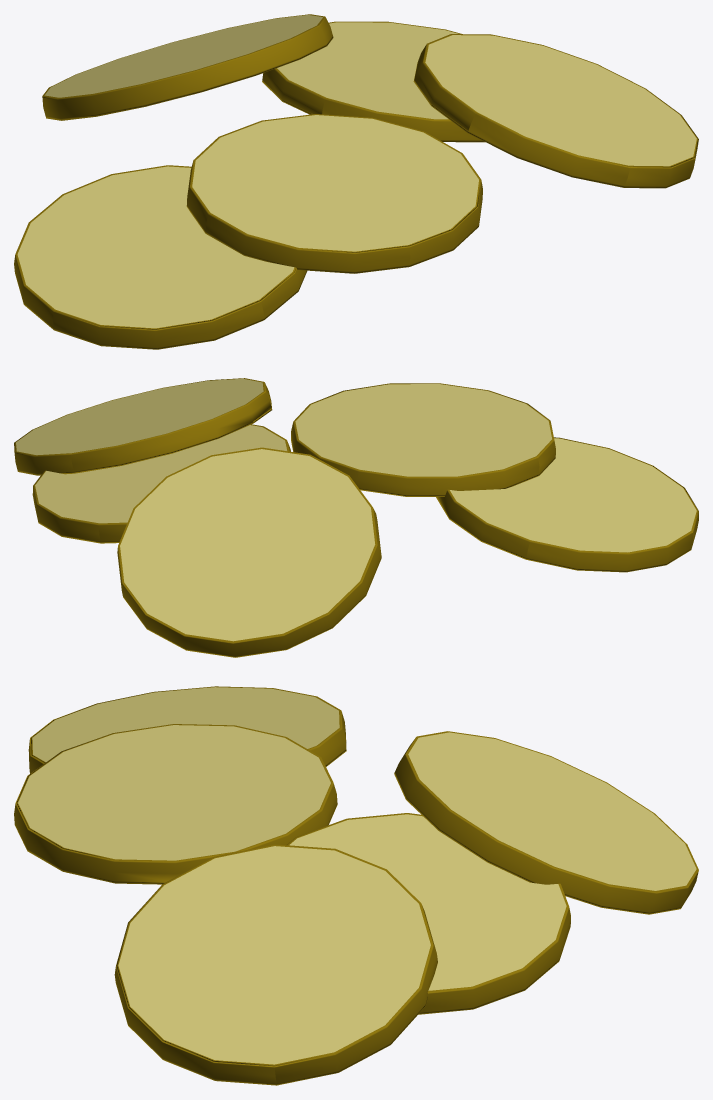
File: pickle.glb
3 views of the same model, one above another, from view 1: azimuth 30°, elevation 25°; view 2: azimuth 150°, elevation 25°; view 3: azimuth 270°, elevation 25° (orthographic). The views are drawn at different scales.
Visible parts, largest first — view 1: pickle; view 2: pickle; view 3: pickle.
Part boxes in pixels (x1,y1,x2,y2): pickle: (14,14,698,349); pickle: (14,378,698,657); pickle: (14,686,698,1085).
Bounding box in the file's own units: 0.5924 × 0.1062 × 0.4736.
